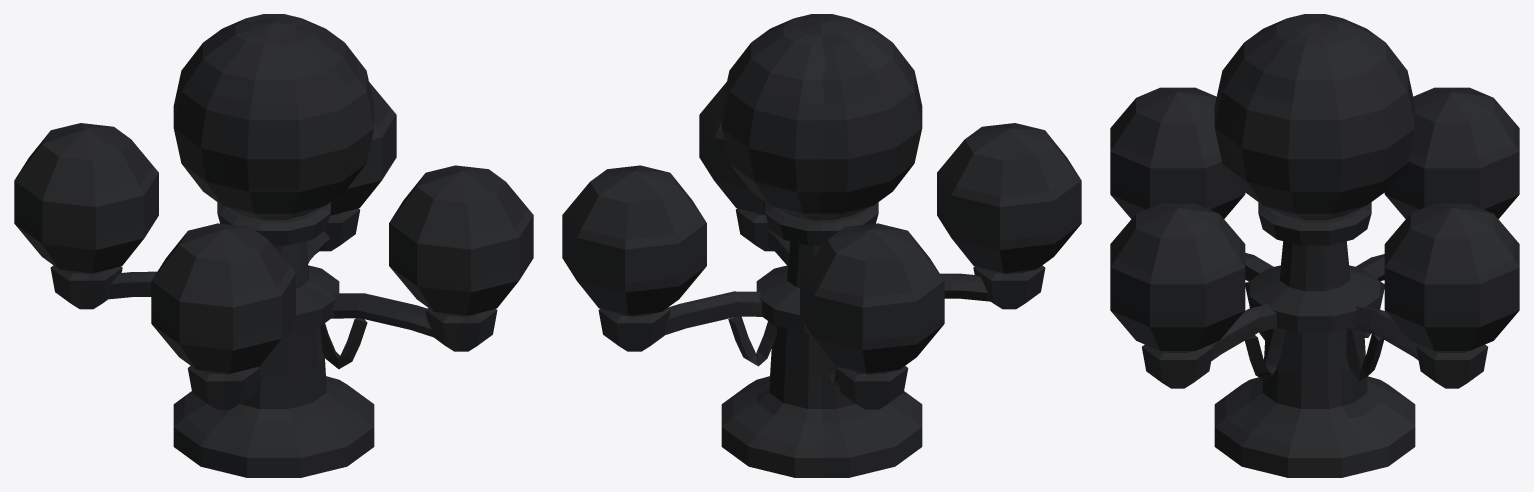
Rendered from decolight_lallewellyn5_inv.obj.
The picture shows the model from 3 angles, left to right: view 1: azimuth 30°, elevation 25°; view 2: azimuth 150°, elevation 25°; view 3: azimuth 270°, elevation 25°; orthographic projection.
Parts seen in each view (by area): view 1: decolight_lallewellyn5_inv; view 2: decolight_lallewellyn5_inv; view 3: decolight_lallewellyn5_inv.
Boxes of the visible parts, x1,y1,x2,y2 form: decolight_lallewellyn5_inv: [14, 14, 533, 477]; decolight_lallewellyn5_inv: [562, 14, 1081, 477]; decolight_lallewellyn5_inv: [1110, 14, 1519, 477].
Size of the model in its own units: 0.8763 by 0.975 by 0.8763.
